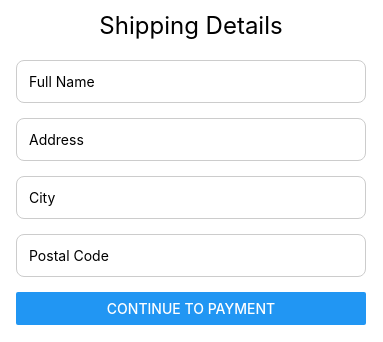
Test: CheckoutScreen › initializes payment and shows "Complete Payment" button after shipping details are filled
This screenshot has width=383, height=342.
# Fill shipping form
Type "John Doe" into the field with placeholder "Full Name" at (191, 82), box left=16, top=60, right=366, bottom=103
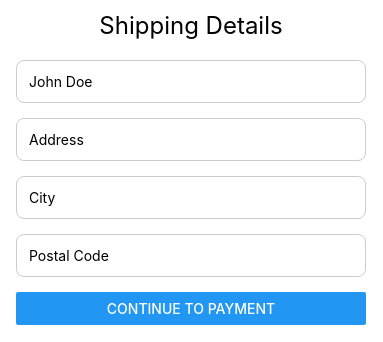
Type "123 Main St" into the field with placeholder "Address" at (191, 140), box left=16, top=118, right=366, bottom=161
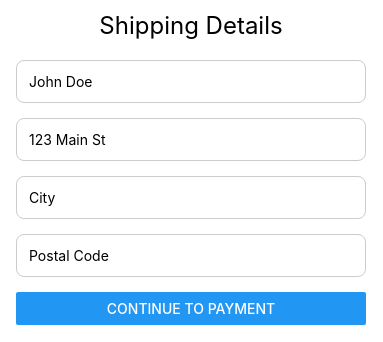
Type "Anytown" into the field with placeholder "City" at (191, 198), box left=16, top=176, right=366, bottom=219
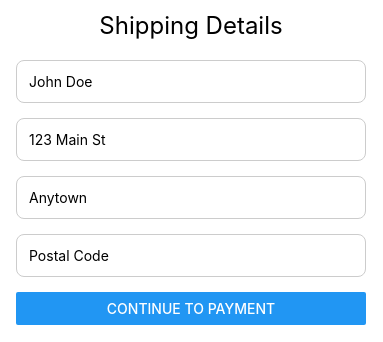
Type "12345" into the field with placeholder "Postal Code" at (191, 256), box left=16, top=234, right=366, bottom=277
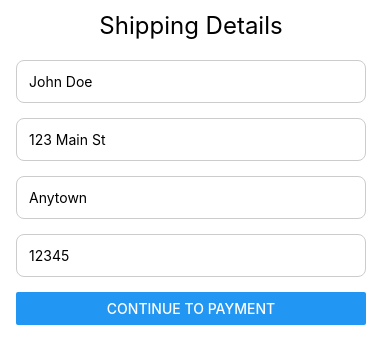
Click the button "Continue to Payment" at (191, 308), box left=16, top=292, right=366, bottom=325
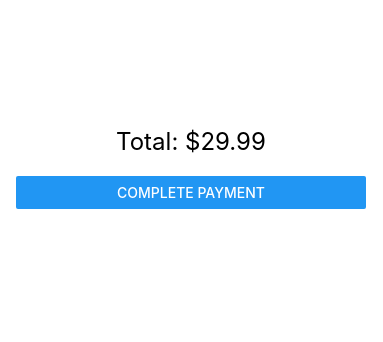
Check: the text "Complete Payment" is shown, box left=117, top=184, right=265, bottom=201
